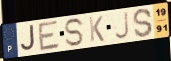E: (37, 19, 61, 53)
J: (113, 10, 131, 41), (20, 23, 37, 52)
K: (88, 14, 106, 43)
S: (132, 7, 154, 39), (64, 17, 85, 48)
